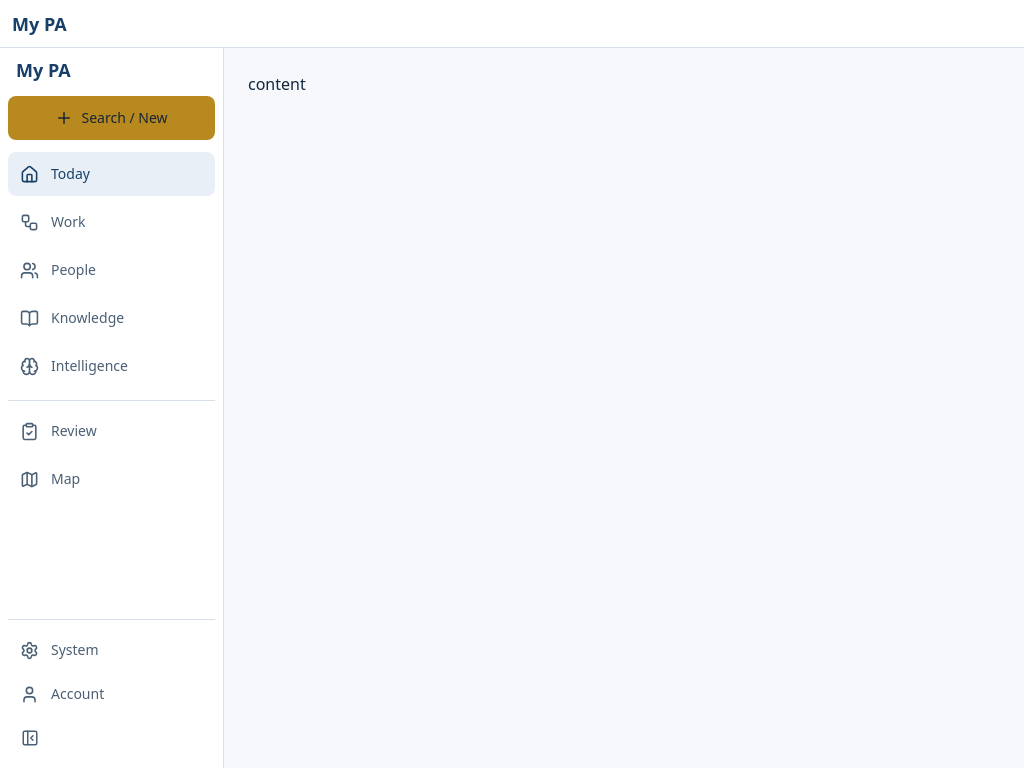
Test: app shell › federates a typed query through GET /api/search and keeps omitted coverage honest
Press k
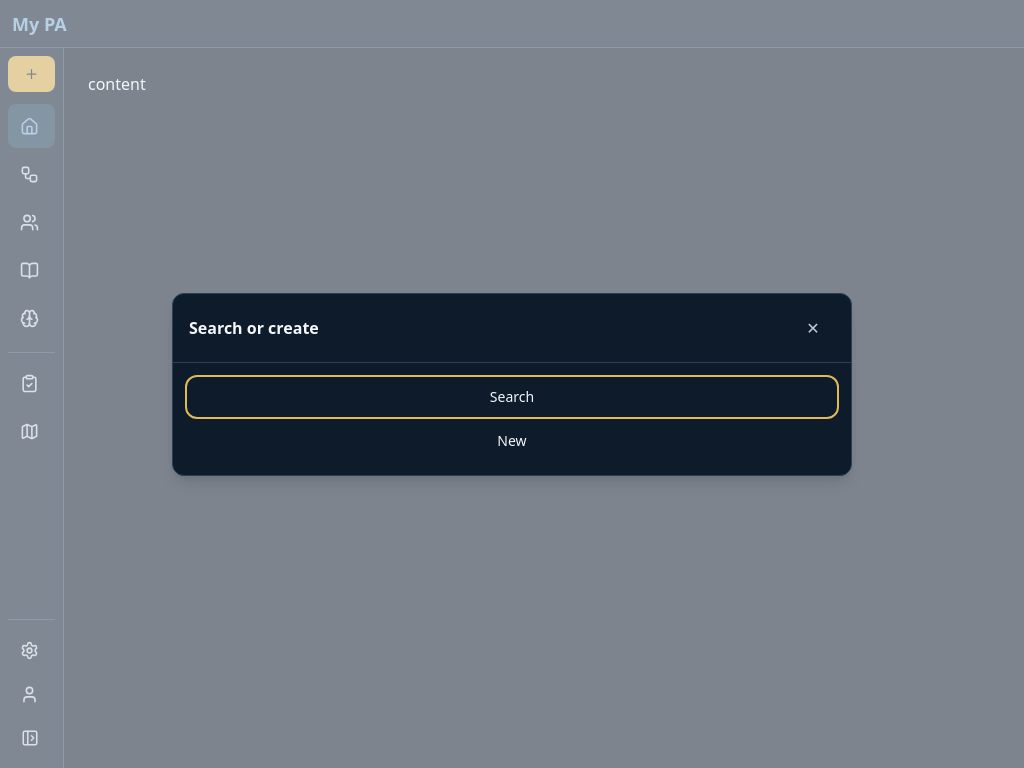
Click the button "Search" at (512, 396), box [189,378,835,414]
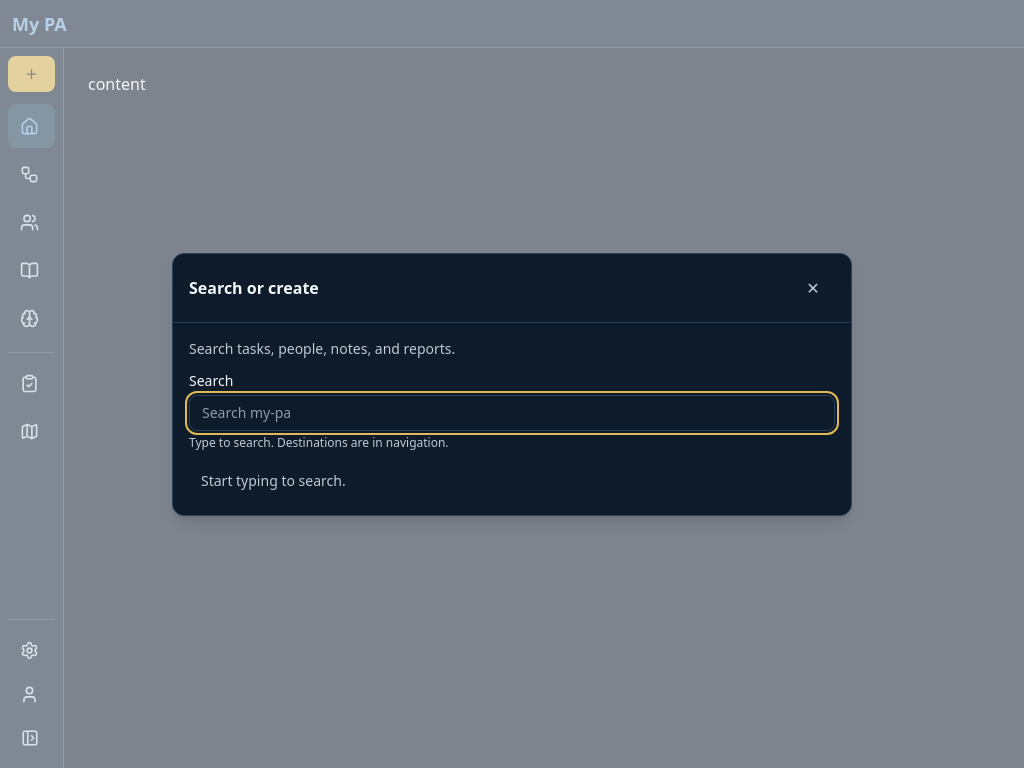
Type "morning" into the search field labelled "Search" at (512, 412), box [189,394,835,430]
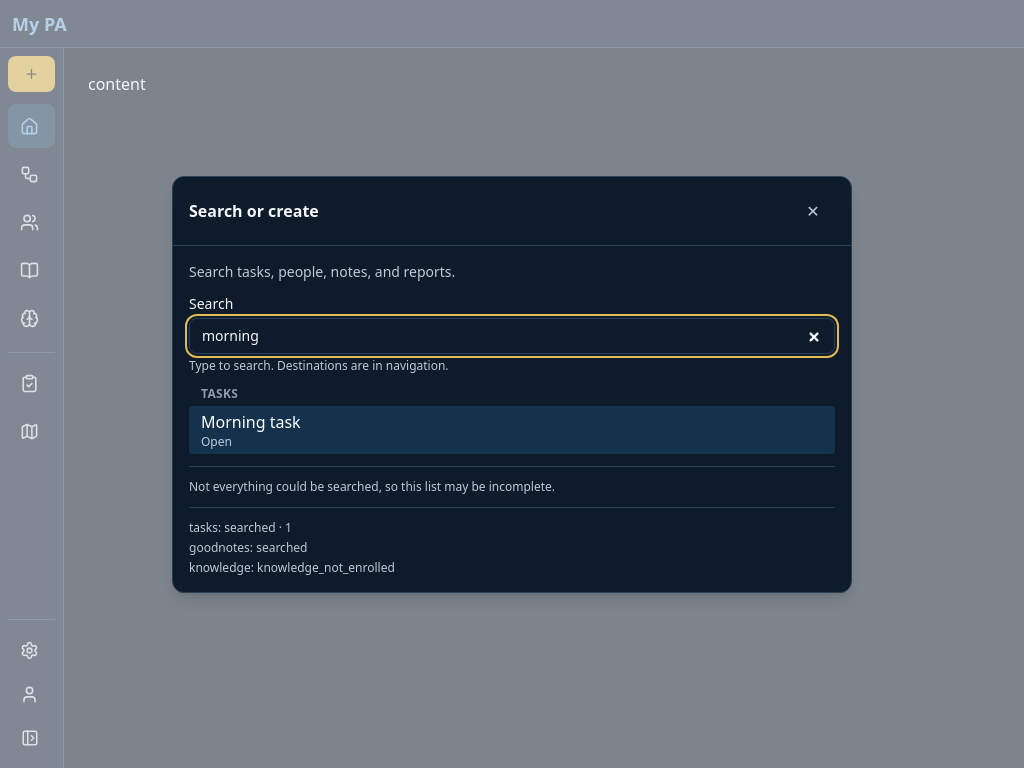
Check: the element with test id "search-group-tasks" shows "Morning task", box [189,406,835,454]
Check: the list with test id "search-coverage" shows "goodnotes: searched", box [189,506,835,576]
Check: the list with test id "search-coverage" shows "knowledge_not_enrolled", box [257,558,395,576]
